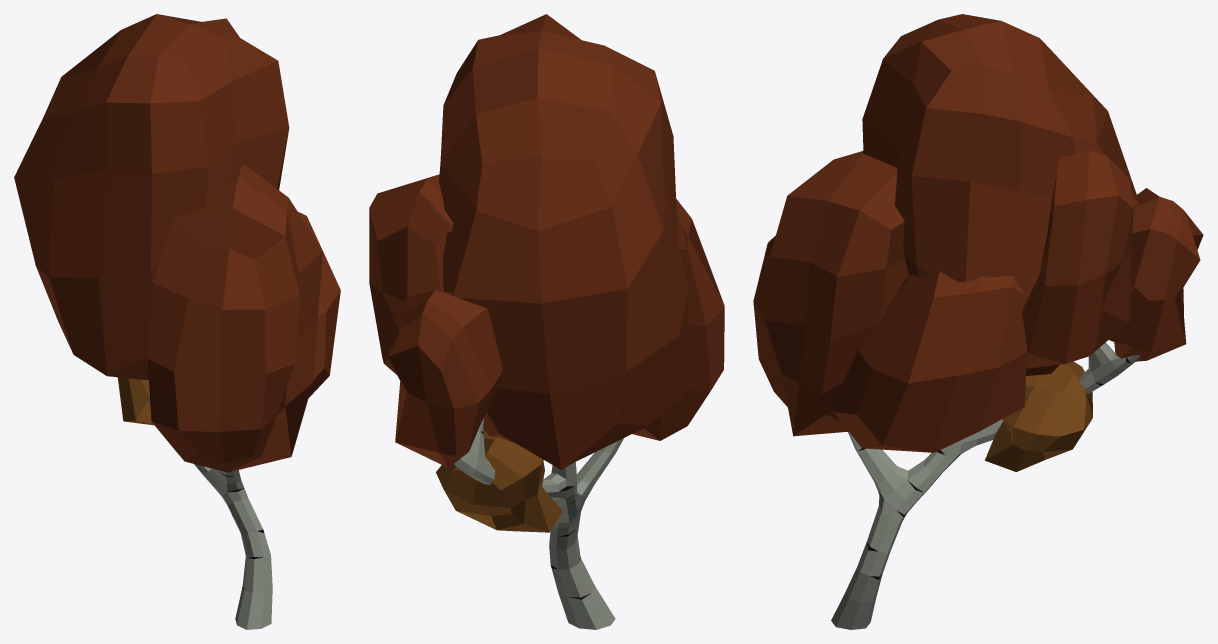
Rendered from BirchTree_Autumn_1.obj.
3 views of the same model, side by side, from view 1: azimuth 30°, elevation 25°; view 2: azimuth 150°, elevation 25°; view 3: azimuth 270°, elevation 25° (orthographic). The views are drawn at different scales.
Parts seen in each view (by area): view 1: BirchTree_Autumn_1_Cube.097; view 2: BirchTree_Autumn_1_Cube.097; view 3: BirchTree_Autumn_1_Cube.097.
Part boxes in pixels (x1,y1,x2,y2): BirchTree_Autumn_1_Cube.097: (14,14,340,629); BirchTree_Autumn_1_Cube.097: (369,14,724,629); BirchTree_Autumn_1_Cube.097: (753,14,1203,629).
Bounding box in the file's own units: 1.7 × 3.57 × 2.48.
